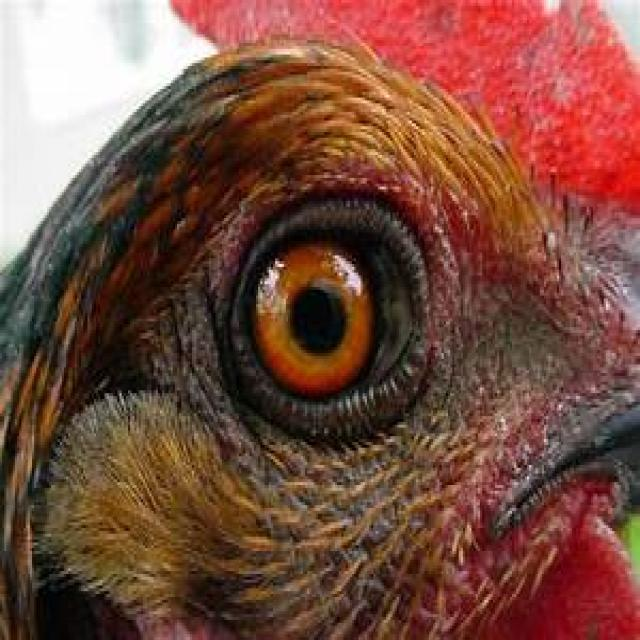hen: (0, 0, 640, 638)
